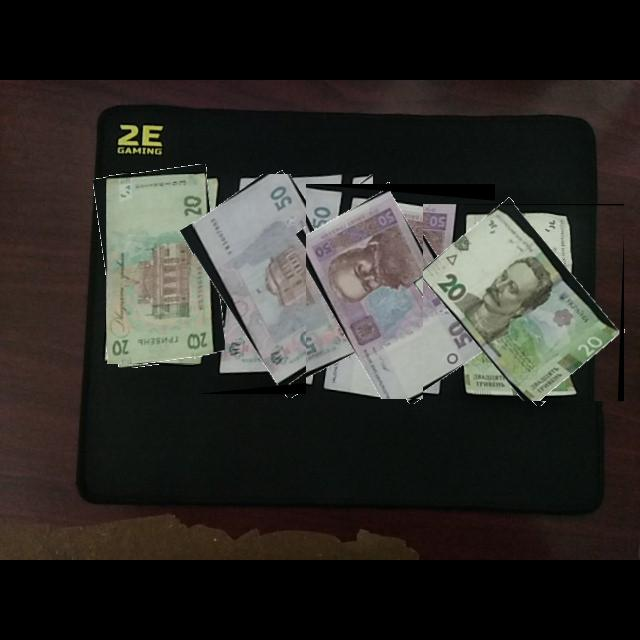20uah: (423, 205, 622, 402), (107, 174, 212, 365)
50uah: (194, 174, 371, 387), (306, 190, 485, 400)
